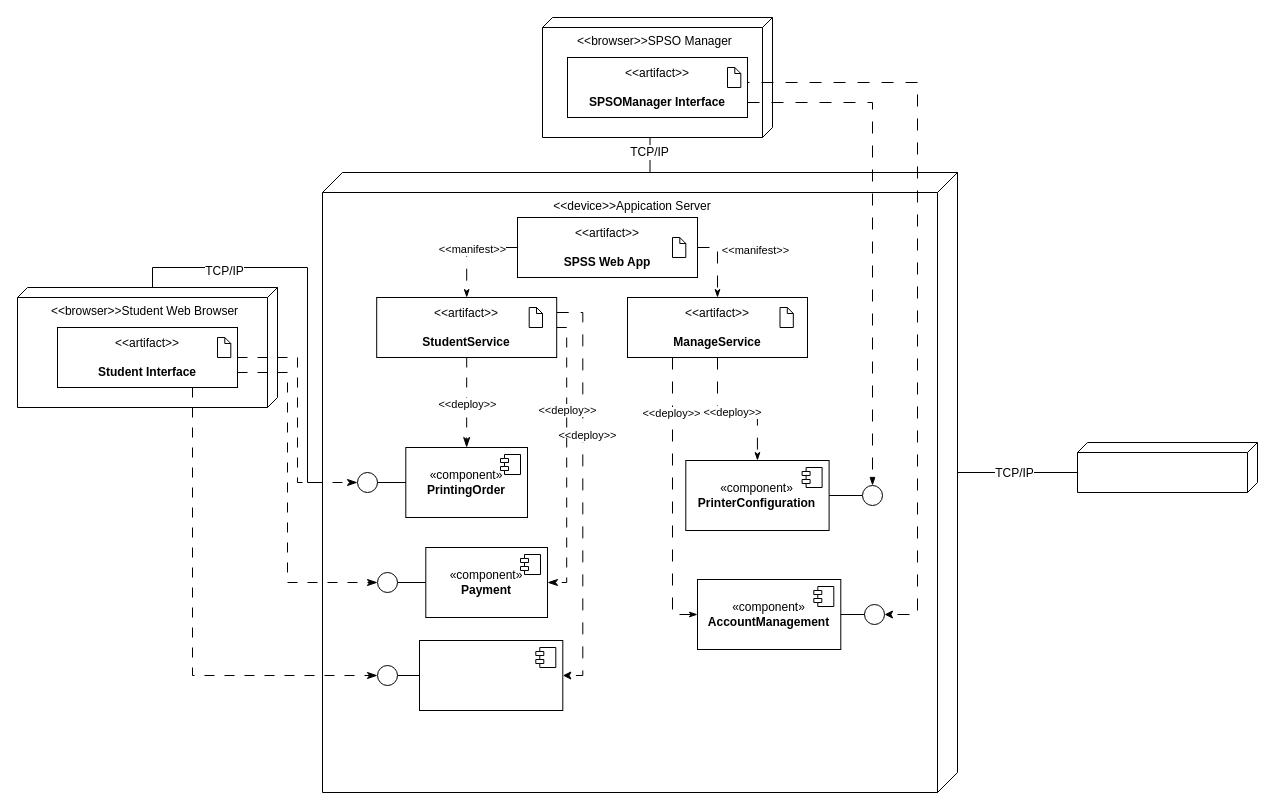
Image size: 1275x810. Some labels were removed from this diagram. Here are the shapes that lost their labels. From the top down, the centre of each, then its label:
the point at 1167,467: <<device>>Database Server
the point at 490,675: «component» Authentication
